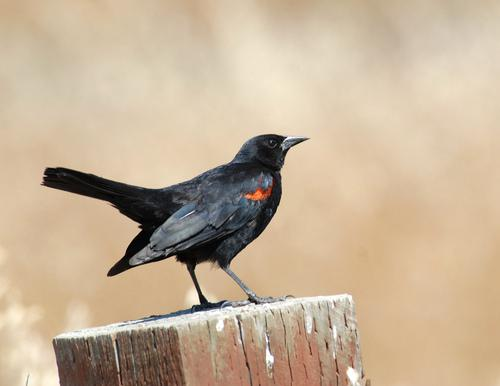010.Red_winged_Blackbird: (40, 134, 315, 313)
